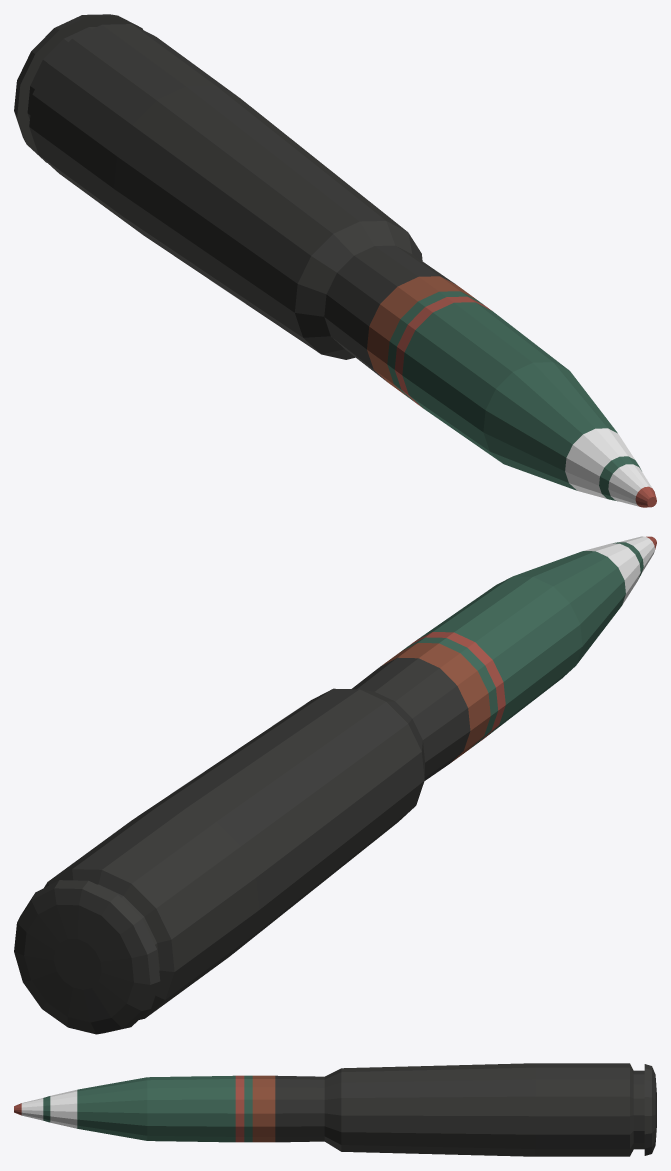
The model's file is Mermi.fbx.
3 renders of one model, top to bottom at view 1: azimuth 30°, elevation 25°; view 2: azimuth 150°, elevation 25°; view 3: azimuth 270°, elevation 25°, orthographic. The views are drawn at different scales.
Visible parts, largest first — view 1: Cylinder; view 2: Cylinder; view 3: Cylinder.
Boxes of the visible parts, left/top/right/bottom form: Cylinder: left=14, top=14, right=656, bottom=507; Cylinder: left=14, top=536, right=656, bottom=1034; Cylinder: left=14, top=1063, right=656, bottom=1156.
Bounding box in the file's own units: 0.2371 × 0.2358 × 1.62.
